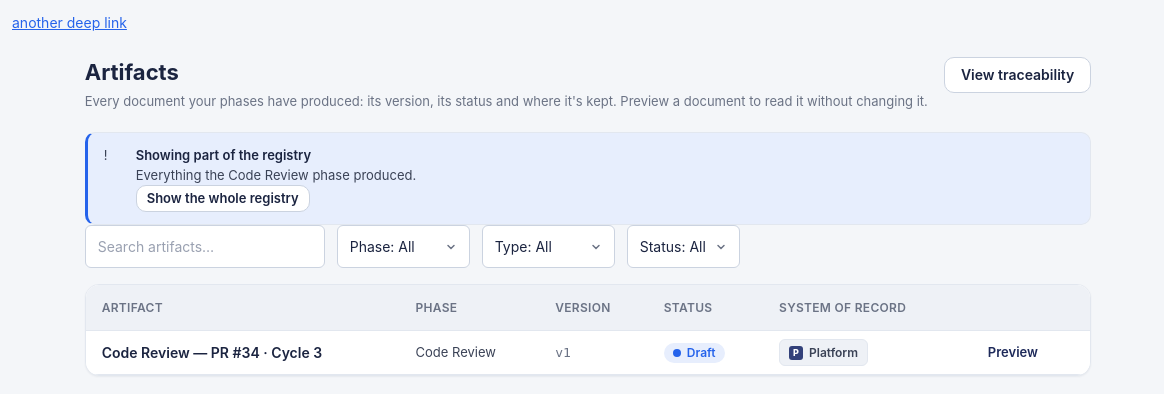
Test: Show the whole registry › still lets a later deep link narrow the registry again
Click the link "Show the whole registry" at (223, 198), box [136,185,310,212]
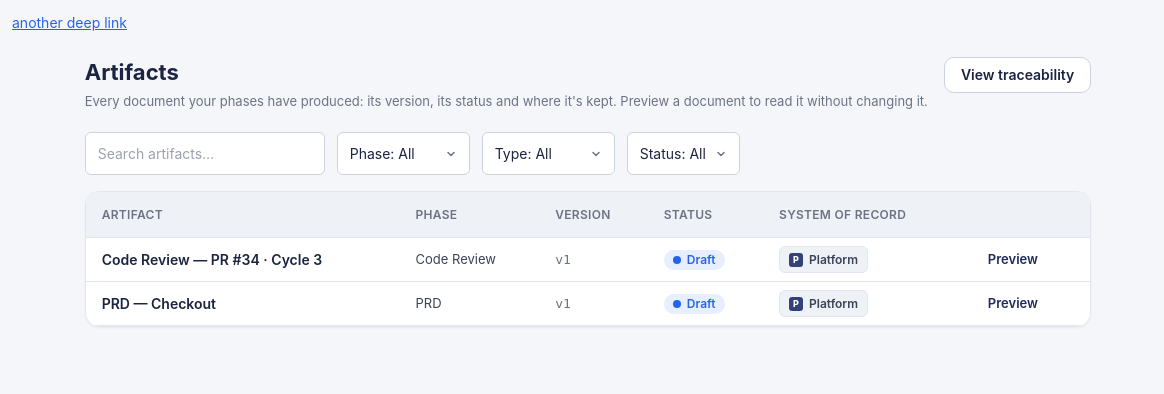
Expected: the text "PRD — Checkout" is shown, [102,294,216,312]
Click the link "another deep link" at (69, 22), box [12,14,127,31]
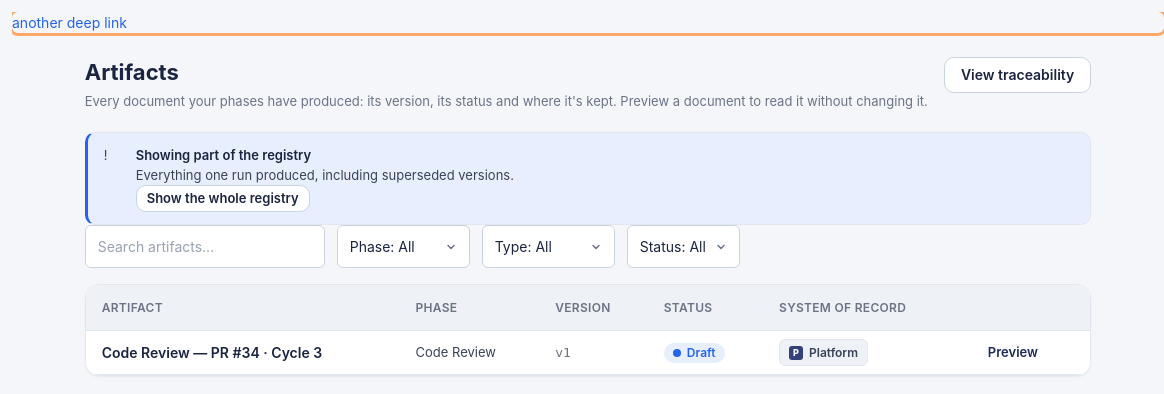
Expected: the text "Showing part of the registry" is shown, [136,147,311,163]
